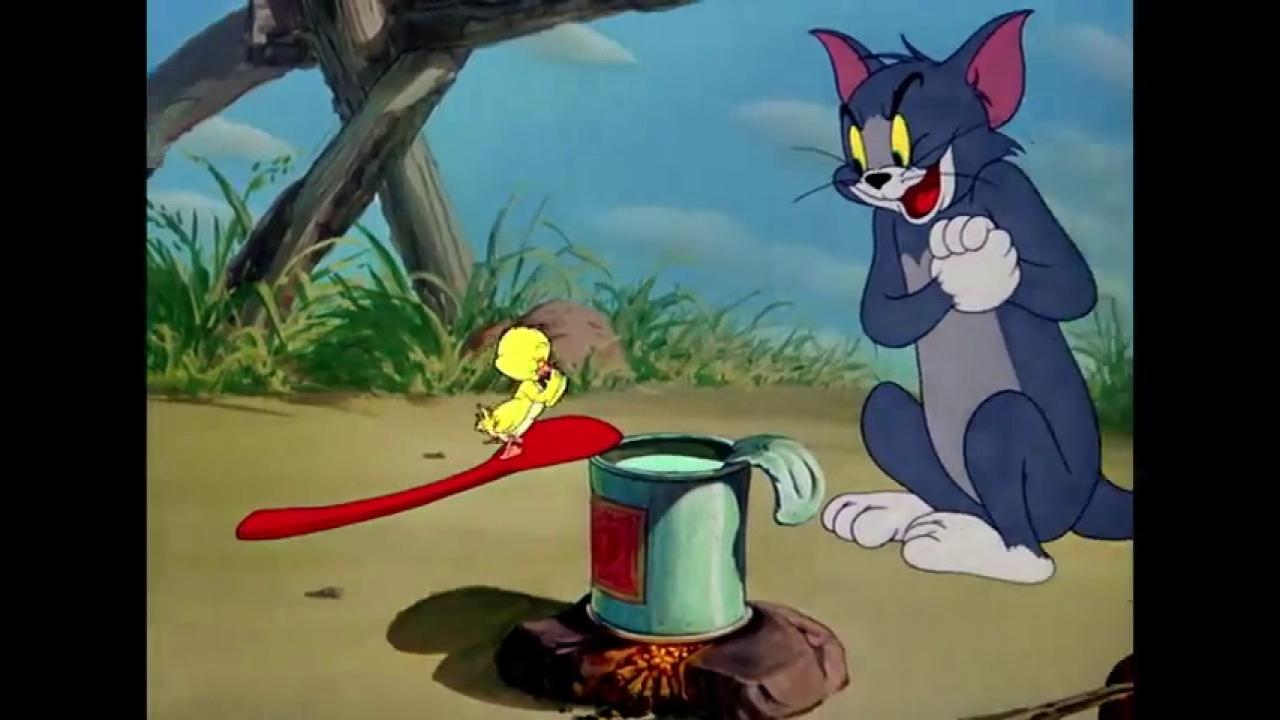Tom: (804, 5, 1133, 586)
